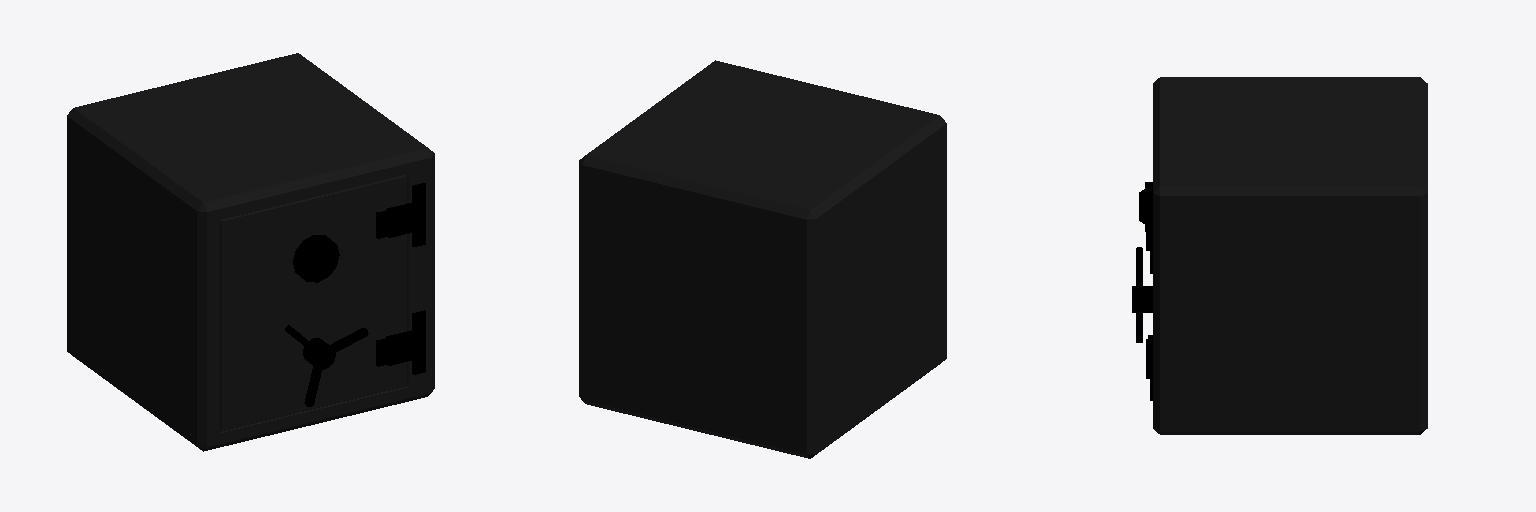
Rendered from safe.obj.
3 renders of one model, left to right at view 1: azimuth 30°, elevation 25°; view 2: azimuth 150°, elevation 25°; view 3: azimuth 270°, elevation 25°, orthographic.
Visible parts, largest first — view 1: Safe_Material.048, Safe_Material.049; view 2: Safe_Material.048; view 3: Safe_Material.048, Safe_Material.049.
Boxes of the visible parts, <box> form: Safe_Material.048: <box>67,53,434,451</box>; Safe_Material.049: <box>285,183,425,406</box>; Safe_Material.048: <box>579,60,946,458</box>; Safe_Material.048: <box>1153,77,1427,434</box>; Safe_Material.049: <box>1132,182,1152,400</box>.
Bounding box in the file's own units: 3.12 × 3.12 × 3.35.